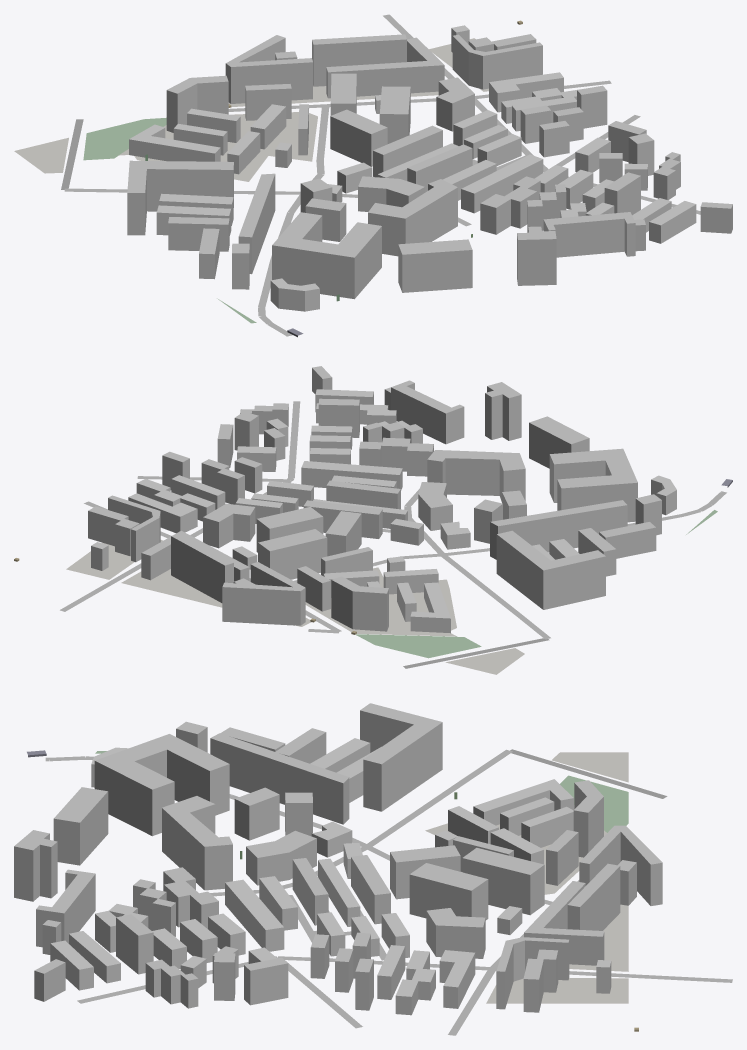
The picture shows the model from 3 angles, top to bottom: view 1: azimuth 30°, elevation 25°; view 2: azimuth 150°, elevation 25°; view 3: azimuth 270°, elevation 25°; orthographic projection. The views are drawn at different scales.
Bounding box in the file's own units: 569 × 49.27 × 603.
